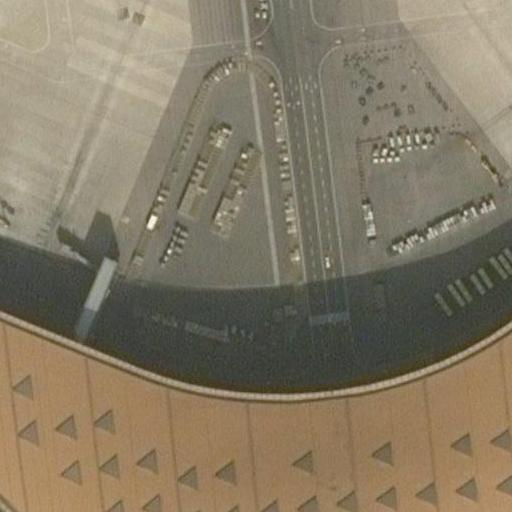Aircraft: (508, 70, 512, 172)
